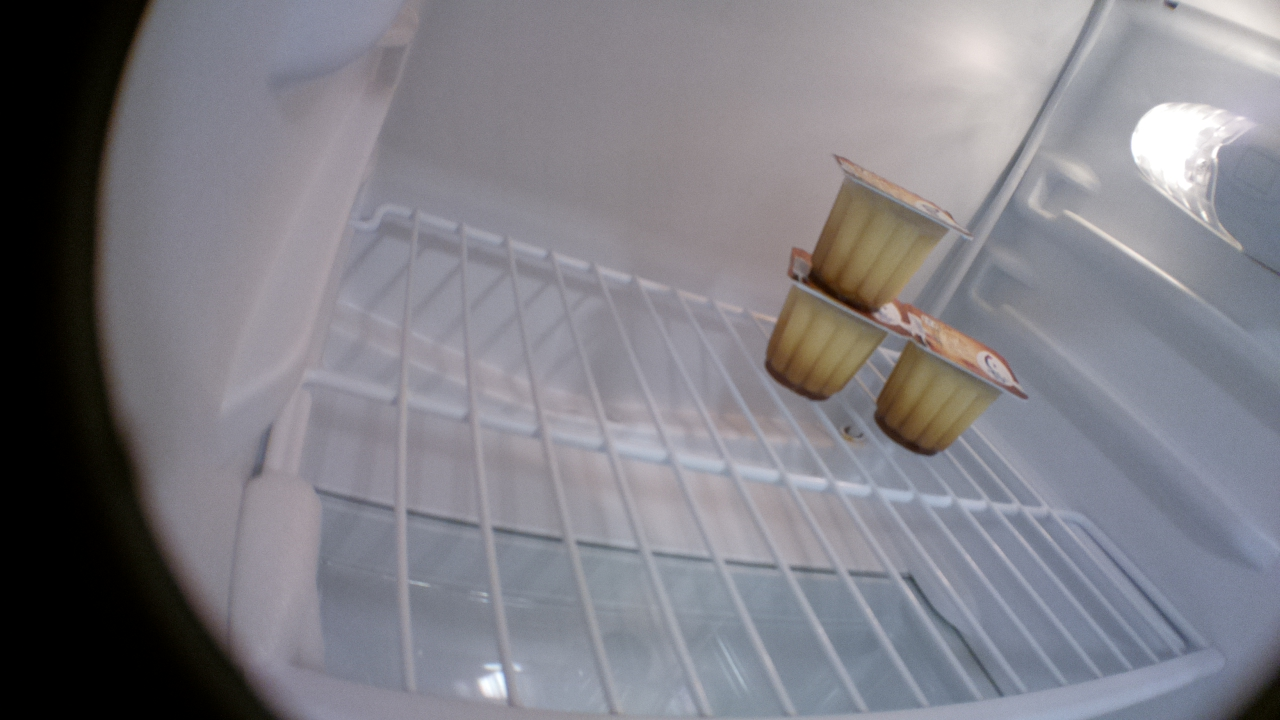caramel: (807, 151, 972, 313), (763, 242, 916, 411), (874, 300, 1030, 457)
